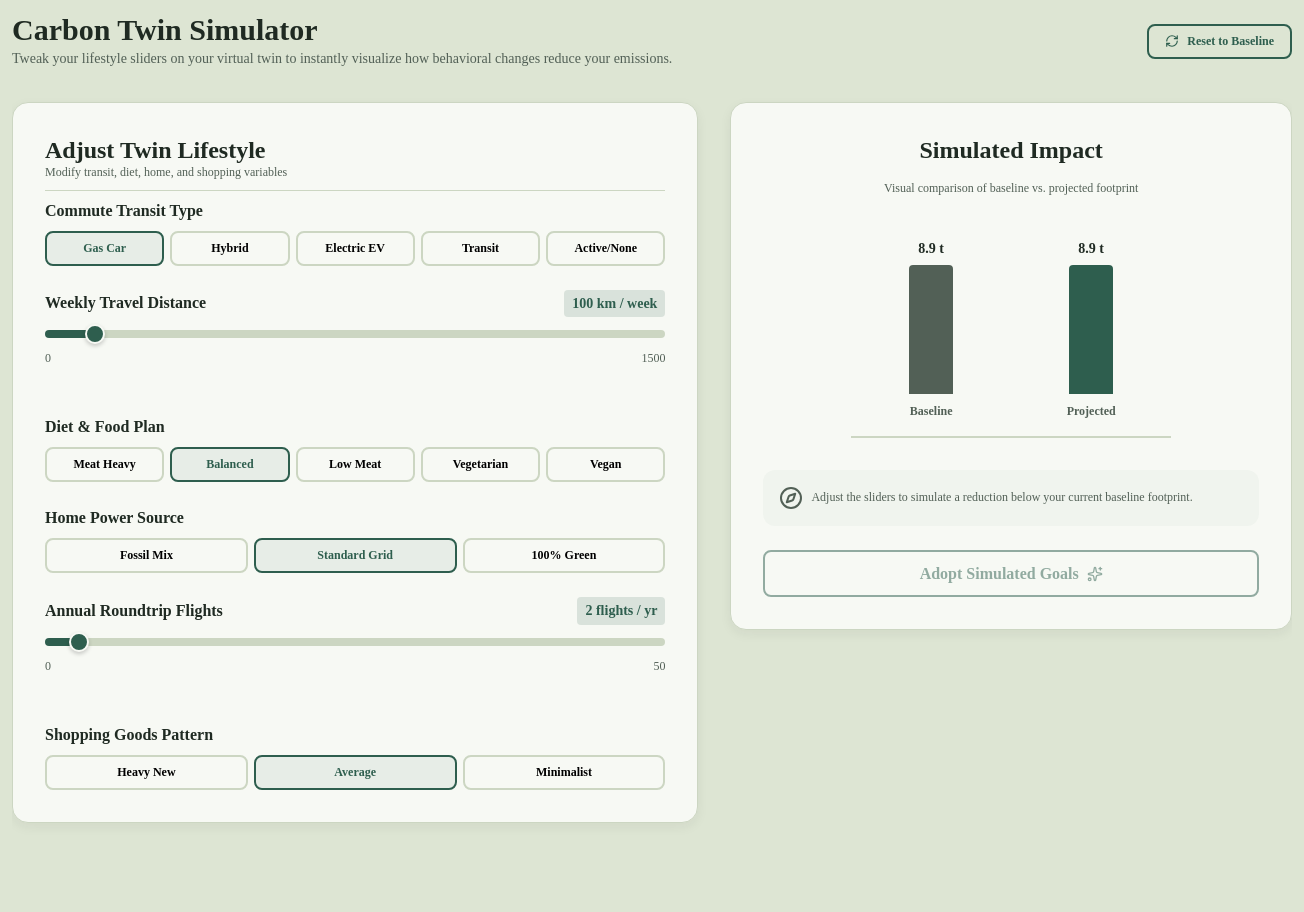
Carbon Twin Simulator Page › should render sliders and update projections on slider change if assessment is completed
Expected: the heading "Adjust Twin Lifestyle" is shown, [45, 137, 266, 163]
Expected: the text "Baseline" is shown, [910, 402, 952, 420]
Click the radio button labelled "Vegetarian". click: coordinates (480, 465)
box: [421, 447, 540, 482]
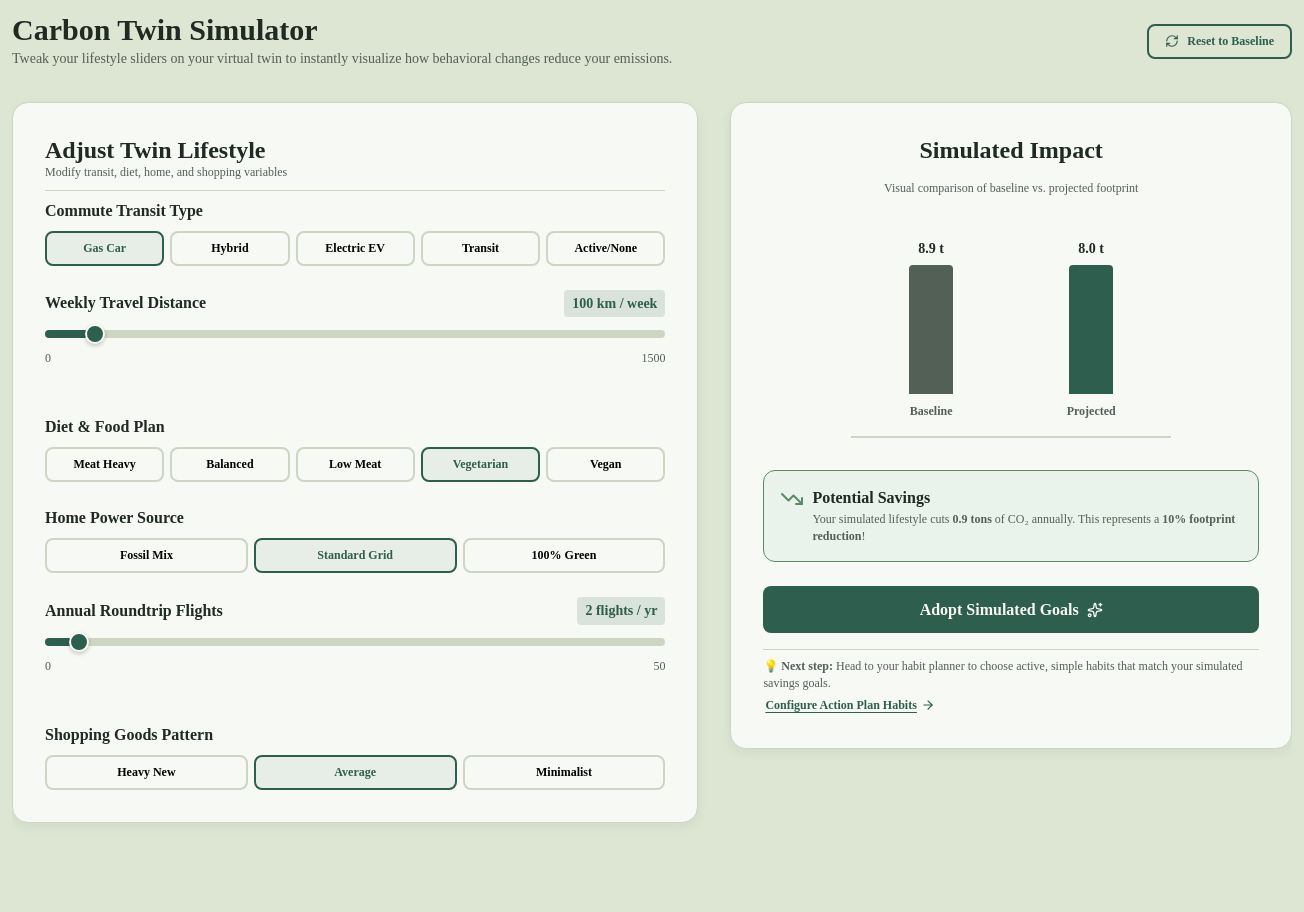
Result: the button "Adopt Simulated Goals" is enabled
Click the button "Adopt Simulated Goals". click: coordinates (1011, 610)
box: [763, 586, 1259, 633]
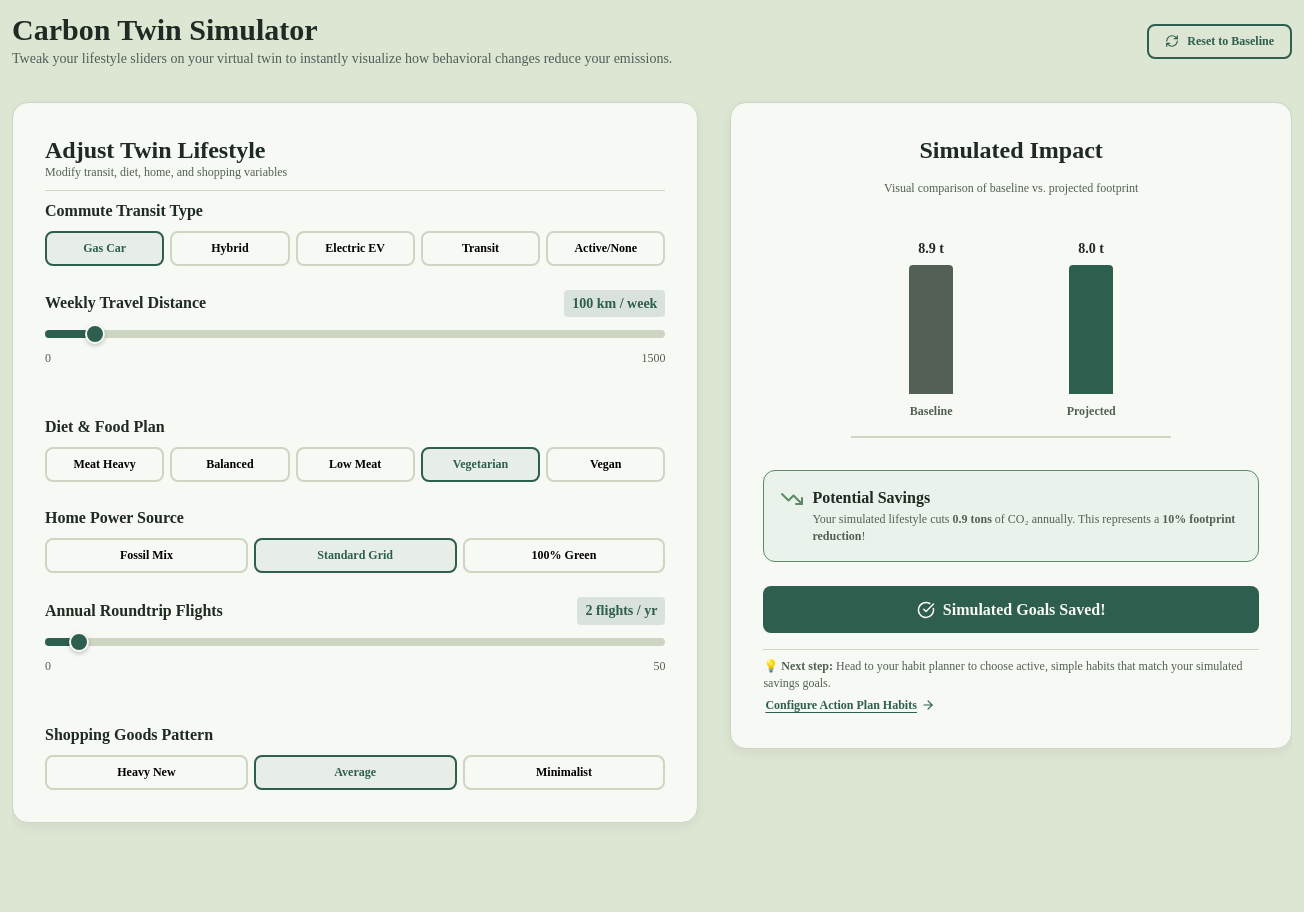
Result: the button "Simulated Goals Saved!" is shown at [763, 586, 1259, 633]
